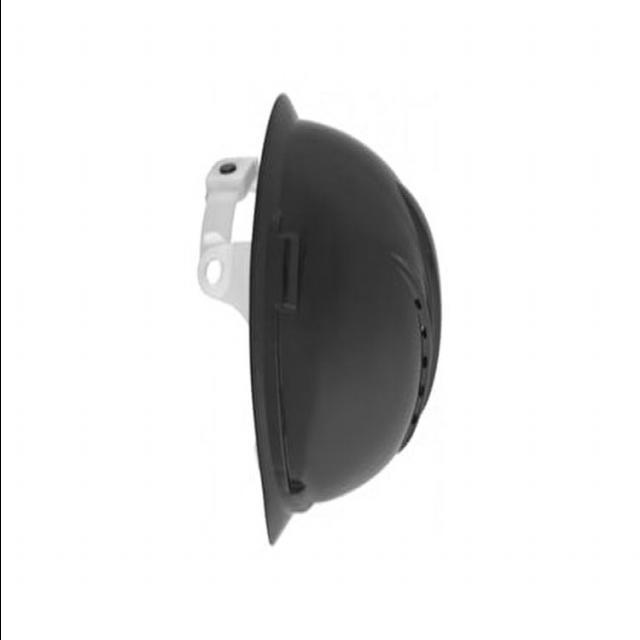safety_helmet: (192, 93, 439, 547)
